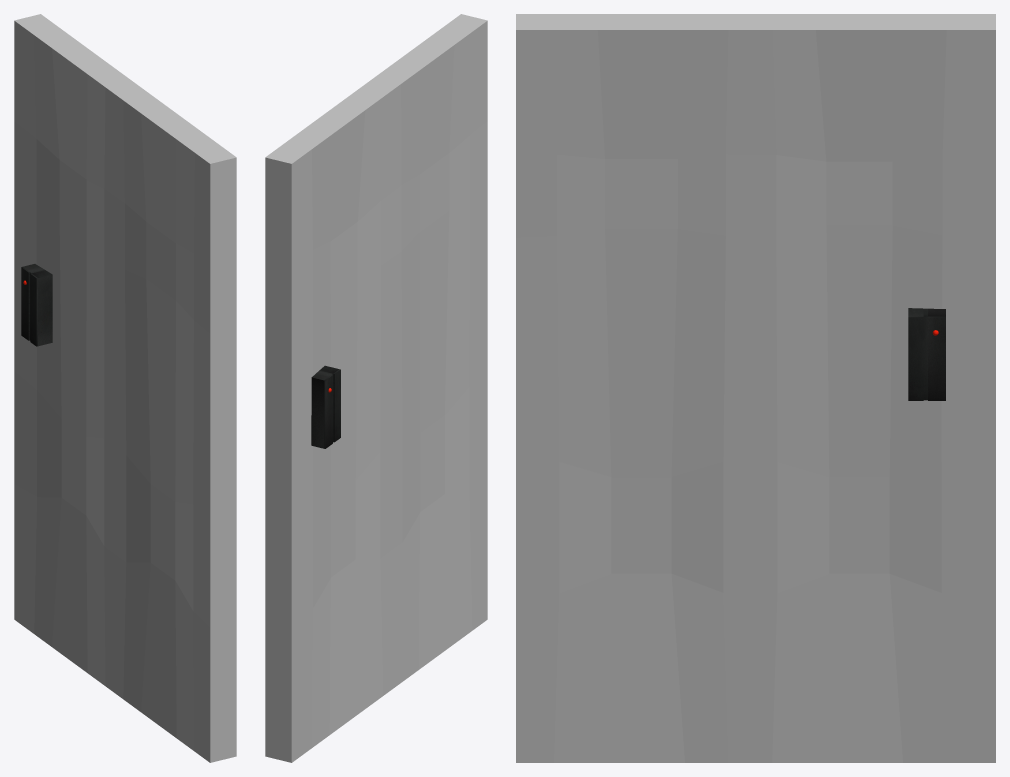
The model's file is KeycardDoor1.fbx.
The picture shows the model from 3 angles, left to right: view 1: azimuth 30°, elevation 25°; view 2: azimuth 150°, elevation 25°; view 3: azimuth 270°, elevation 25°; orthographic projection. The views are drawn at different scales.
Visible parts, largest first — view 1: Cube, Cube.001; view 2: Cube, Cube.001; view 3: Cube, Cube.001.
Part boxes in pixels (<box>): Cube: <box>14,14,236,762</box>; Cube.001: <box>21,264,52,346</box>; Cube: <box>265,14,487,762</box>; Cube.001: <box>311,365,340,448</box>; Cube: <box>516,14,995,762</box>; Cube.001: <box>908,308,945,400</box>.
Size of the model in its own units: 132 by 1332 by 790.
